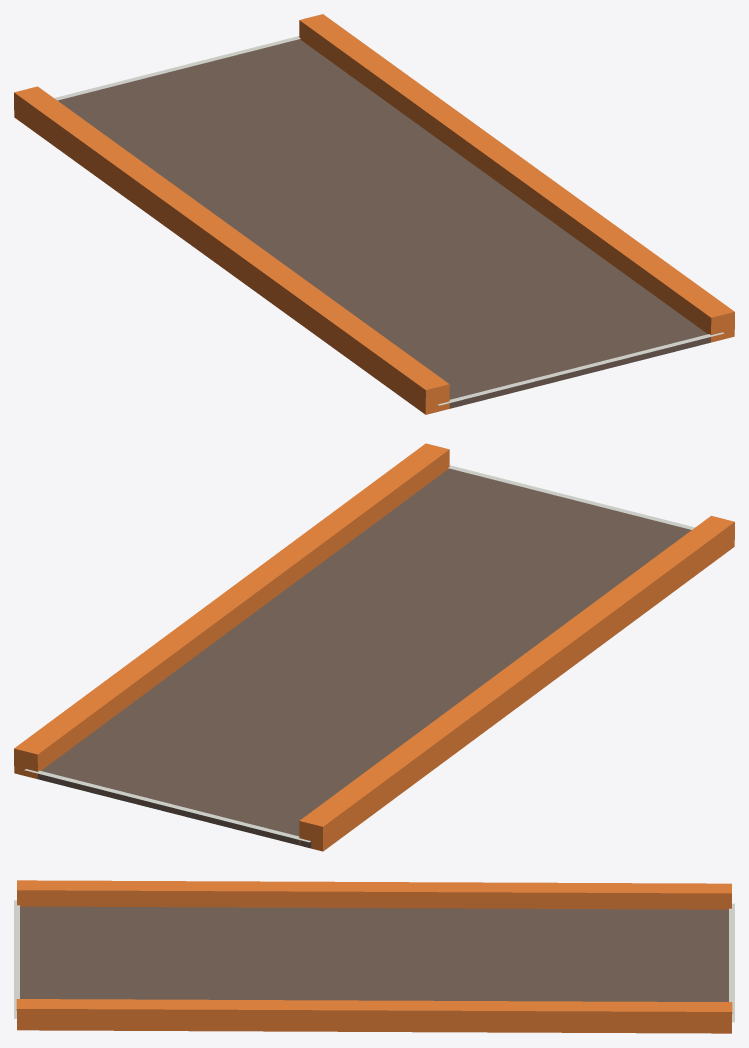
Rendered from SM_MP_Film_C_0_3.fbx.
3 views of the same model, one above another, from view 1: azimuth 30°, elevation 25°; view 2: azimuth 150°, elevation 25°; view 3: azimuth 270°, elevation 25° (orthographic). The views are drawn at different scales.
Visible parts, largest first — view 1: SM_MP_Film_C_0_3; view 2: SM_MP_Film_C_0_3; view 3: SM_MP_Film_C_0_3.
Part boxes in pixels (x1=…): SM_MP_Film_C_0_3: x1=14, y1=14, x2=734, y2=414; SM_MP_Film_C_0_3: x1=14, y1=443, x2=734, y2=851; SM_MP_Film_C_0_3: x1=14, y1=880, x2=734, y2=1033.
Size of what is drawn, in the model's own units: 260 by 605 by 25.34.
